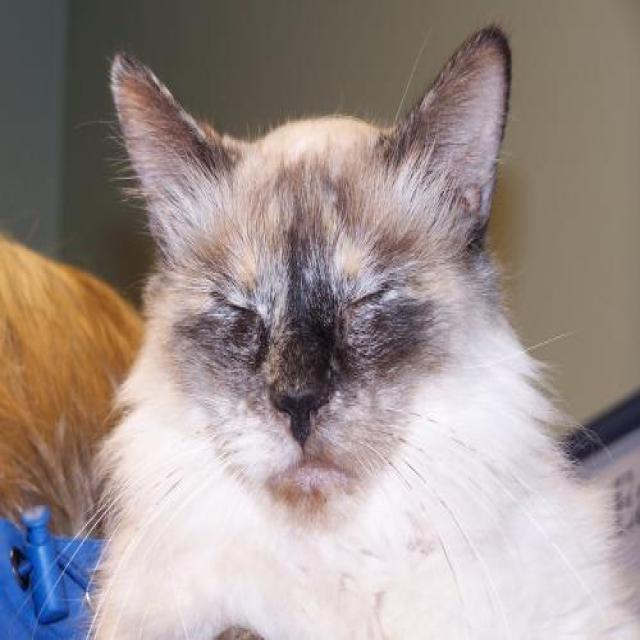cats: (48, 22, 640, 640)
